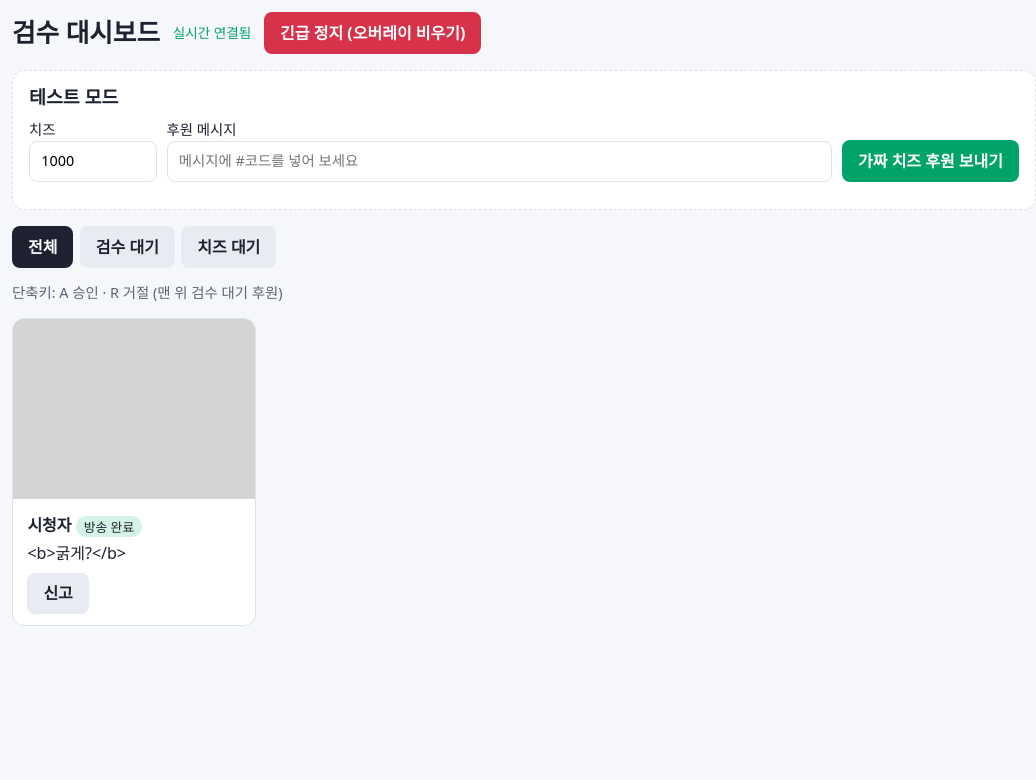
Scenario: DashboardPage › report failure shows the error, not a success message
Click the button "신고": coordinates (58, 593) [27, 572, 89, 614]
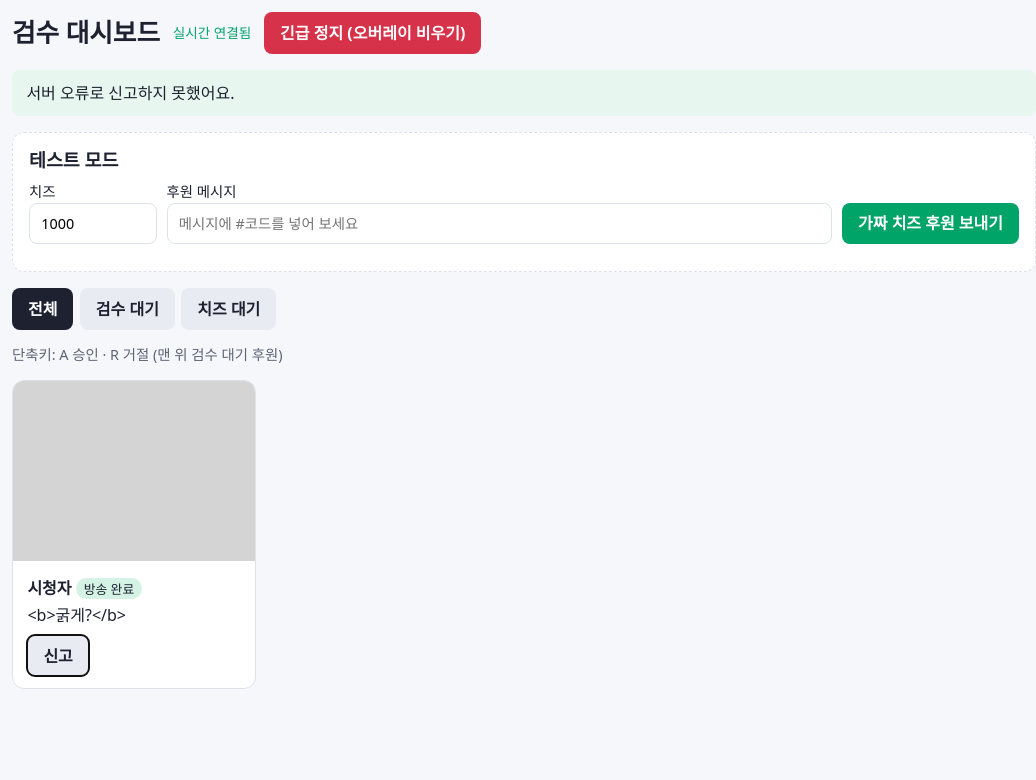
Check: the text "서버 오류로 신고하지 못했어요." is shown, box [12, 70, 1035, 116]
